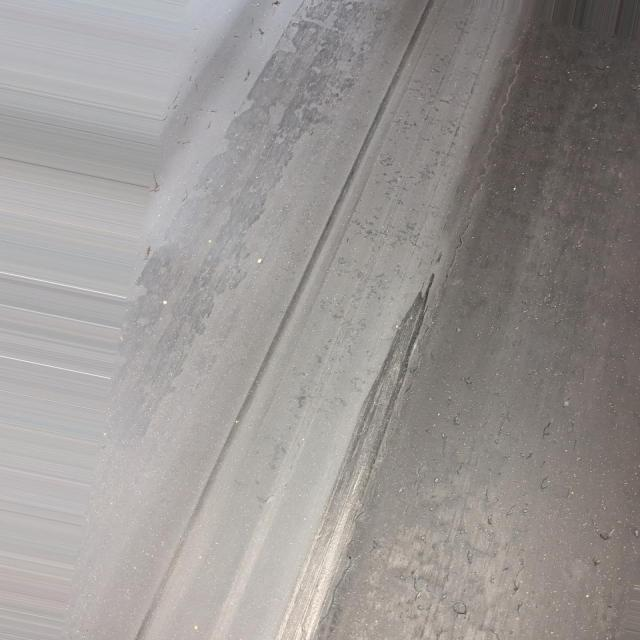Wear: (274, 283, 438, 640)
